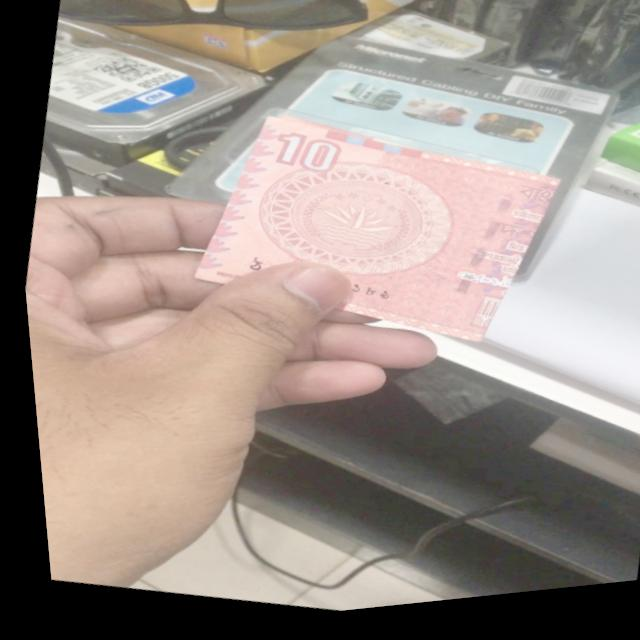Taka: (194, 88, 575, 383)
